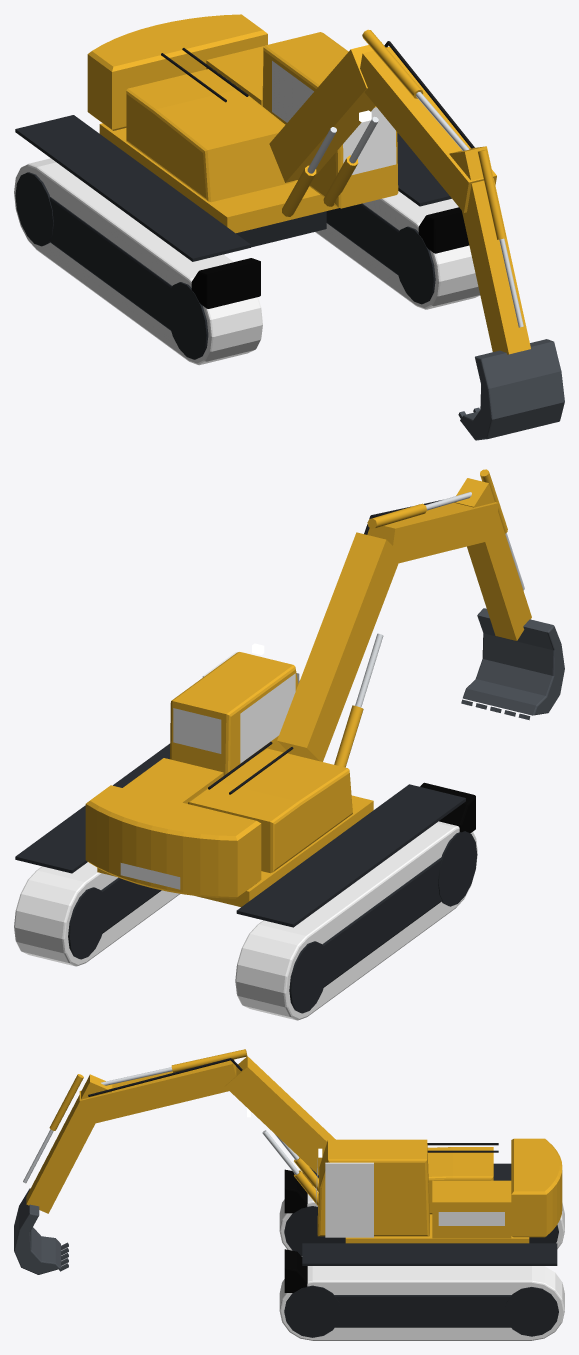
Rendered from equipment--amphibiousExcavator.glb.
The picture shows the model from 3 angles, top to bottom: view 1: azimuth 30°, elevation 25°; view 2: azimuth 150°, elevation 25°; view 3: azimuth 270°, elevation 25°; orthographic projection. The views are drawn at different scales.
Parts seen in each view (by area): view 1: house, pontoonR, amphibiousExcavator:shell, boom, pontoonL, counterweight, stick, bucket; view 2: house, pontoonR, boom, counterweight, amphibiousExcavator:shell, pontoonL, bucket, stick; view 3: pontoonL, house, boom, amphibiousExcavator:shell, counterweight, stick, door, bucket, pontoonR.
Part boxes in pixels (x1=…): house: x1=99, y1=32, x2=398, y2=233; pontoonR: x1=14, y1=158, x2=262, y2=365; amphibiousExcavator:shell: x1=15, y1=115, x2=469, y2=308; boom: x1=269, y1=29, x2=496, y2=216; pontoonL: x1=315, y1=191, x2=480, y2=309; counterweight: x1=87, y1=14, x2=267, y2=130; stick: x1=449, y1=146, x2=530, y2=354; bucket: x1=458, y1=339, x2=564, y2=440; house: x1=97, y1=652, x2=373, y2=906; pontoonR: x1=235, y1=821, x2=477, y2=1020; boom: x1=277, y1=492, x2=498, y2=767; counterweight: x1=85, y1=785, x2=261, y2=898; amphibiousExcavator:shell: x1=15, y1=743, x2=475, y2=927; pontoonL: x1=14, y1=862, x2=179, y2=966; bucket: x1=461, y1=608, x2=564, y2=720; stick: x1=454, y1=469, x2=531, y2=640; pontoonL: x1=279, y1=1266, x2=564, y2=1340; house: x1=316, y1=1139, x2=529, y2=1243; boom: x1=79, y1=1049, x2=335, y2=1205; amphibiousExcavator:shell: x1=284, y1=1163, x2=557, y2=1292; counterweight: x1=511, y1=1138, x2=562, y2=1237; stick: x1=23, y1=1074, x2=112, y2=1213; door: x1=325, y1=1162, x2=373, y2=1237; bucket: x1=14, y1=1188, x2=68, y2=1274; pontoonR: x1=279, y1=1186, x2=564, y2=1256.
Size of the model in its own units: 4.65 by 5.21 by 10.81.
